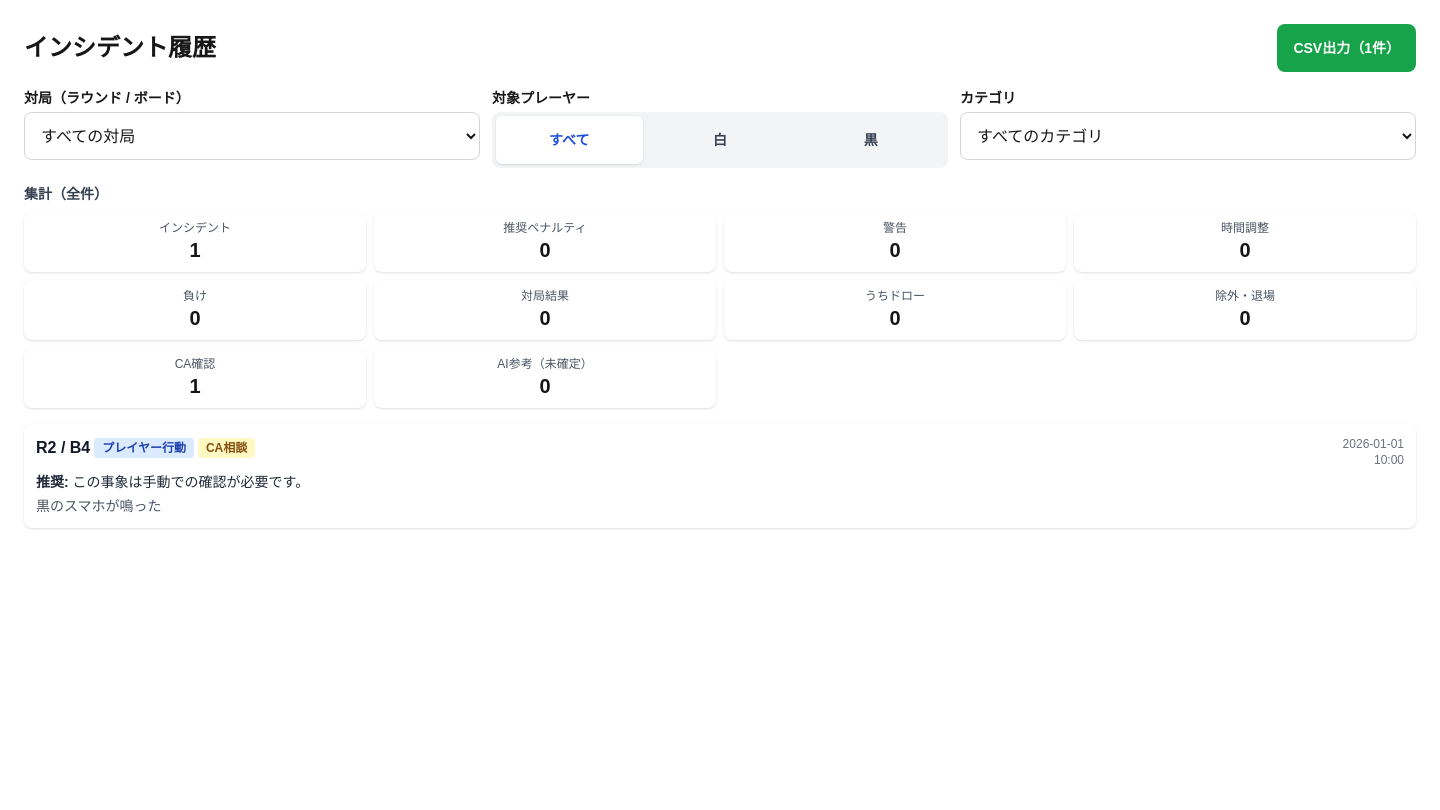
Test case: IncidentLogView: AI reference from the incident log (D13) › an offline decision: retry shows the payload first and sends nothing
Click the button that starts with "R2 / B4" at x=63, y=448, box [24,424,1416,528]
(page scrolled)
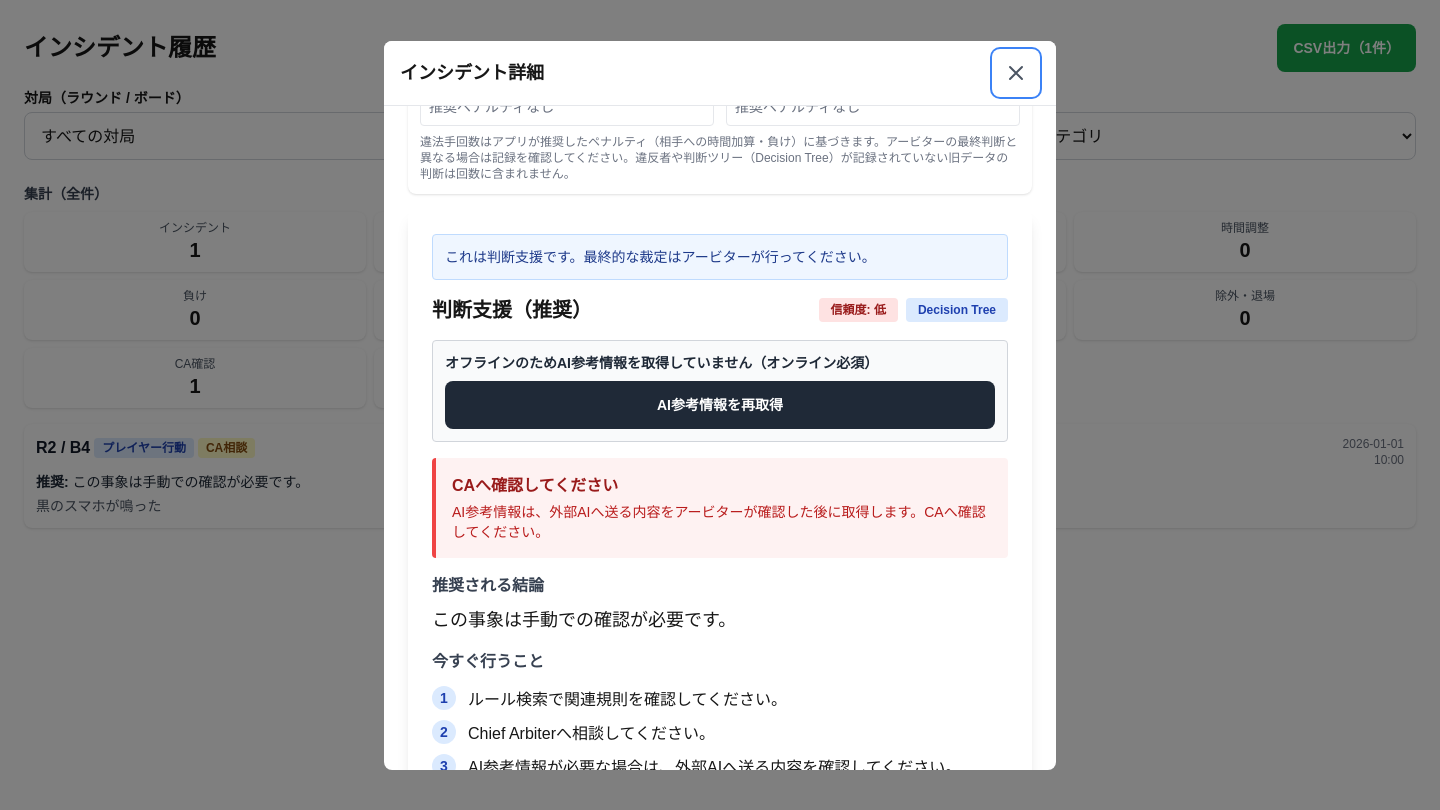
Click the button "AI参考情報を再取得" at x=720, y=404, box [445,380,995,428]
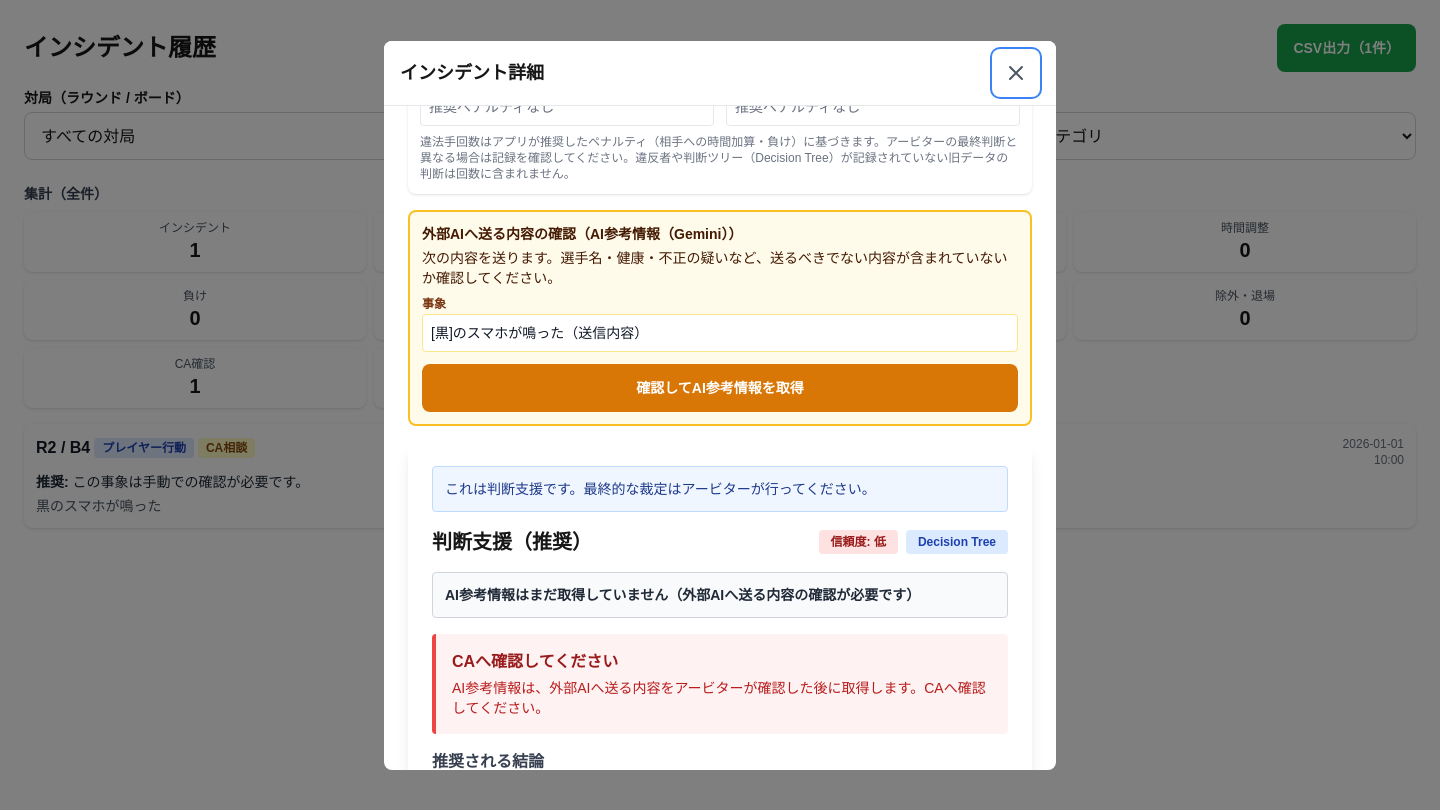
Expected: the text "[黒]のスマホが鳴った（送信内容）" is shown, [422,314,1018,352]
